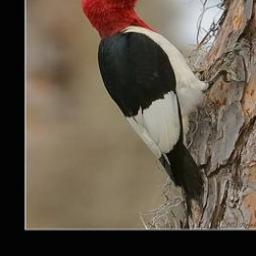Woodpecker: (78, 0, 248, 214)
